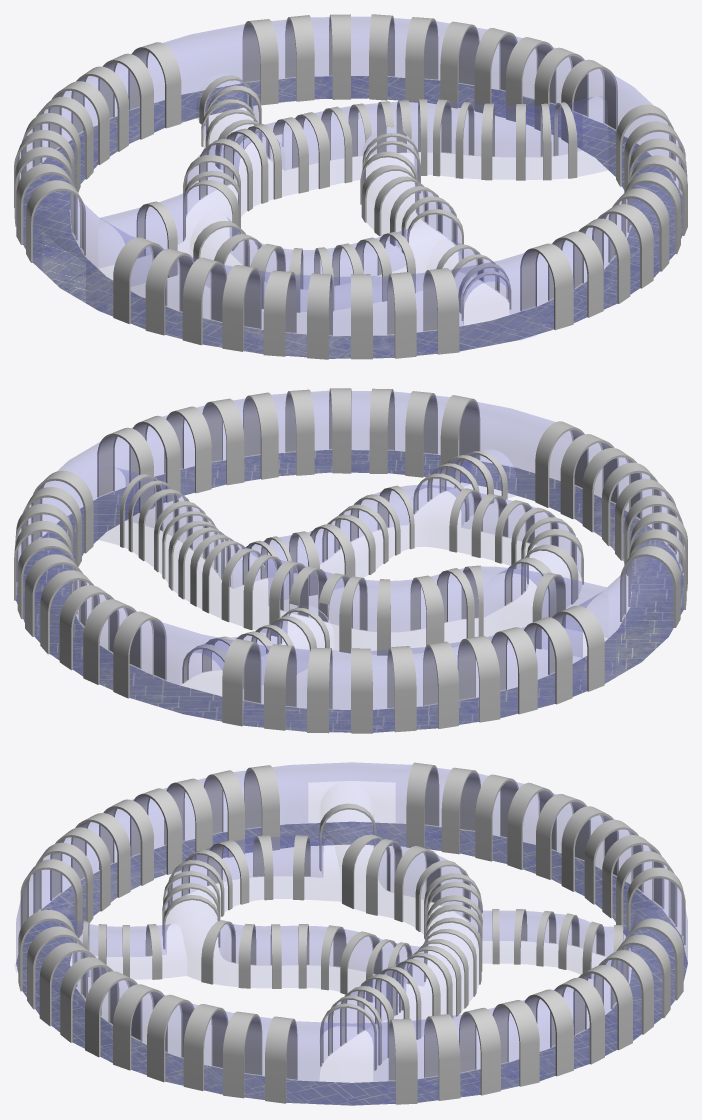
File: TunnelNO.fbx
The picture shows the model from 3 angles, top to bottom: view 1: azimuth 30°, elevation 25°; view 2: azimuth 150°, elevation 25°; view 3: azimuth 270°, elevation 25°; orthographic projection.
Visible parts, largest first — view 1: Circle; view 2: Circle; view 3: Circle.
Boxes of the visible parts, box(x1,y1,x2,y2) form: Circle: box(14, 14, 687, 359); Circle: box(14, 388, 687, 733); Circle: box(14, 762, 687, 1105).
Bounding box in the file's own units: 78522 × 9215 × 78765.
